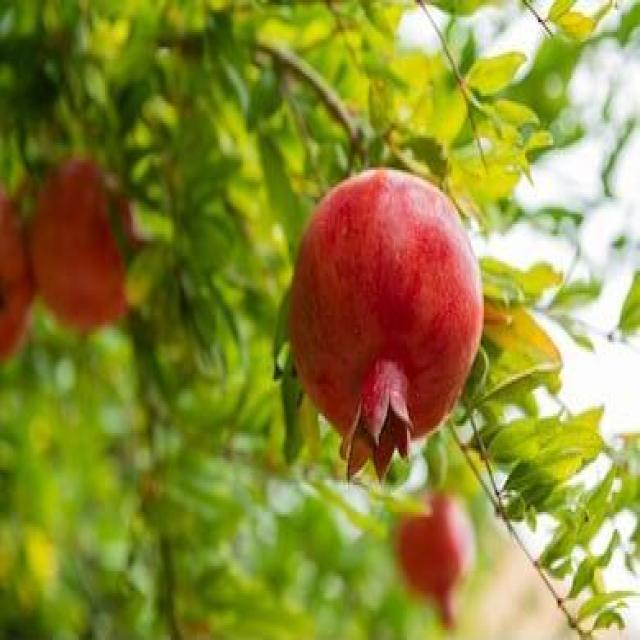Pomegranate: (285, 168, 485, 486)
